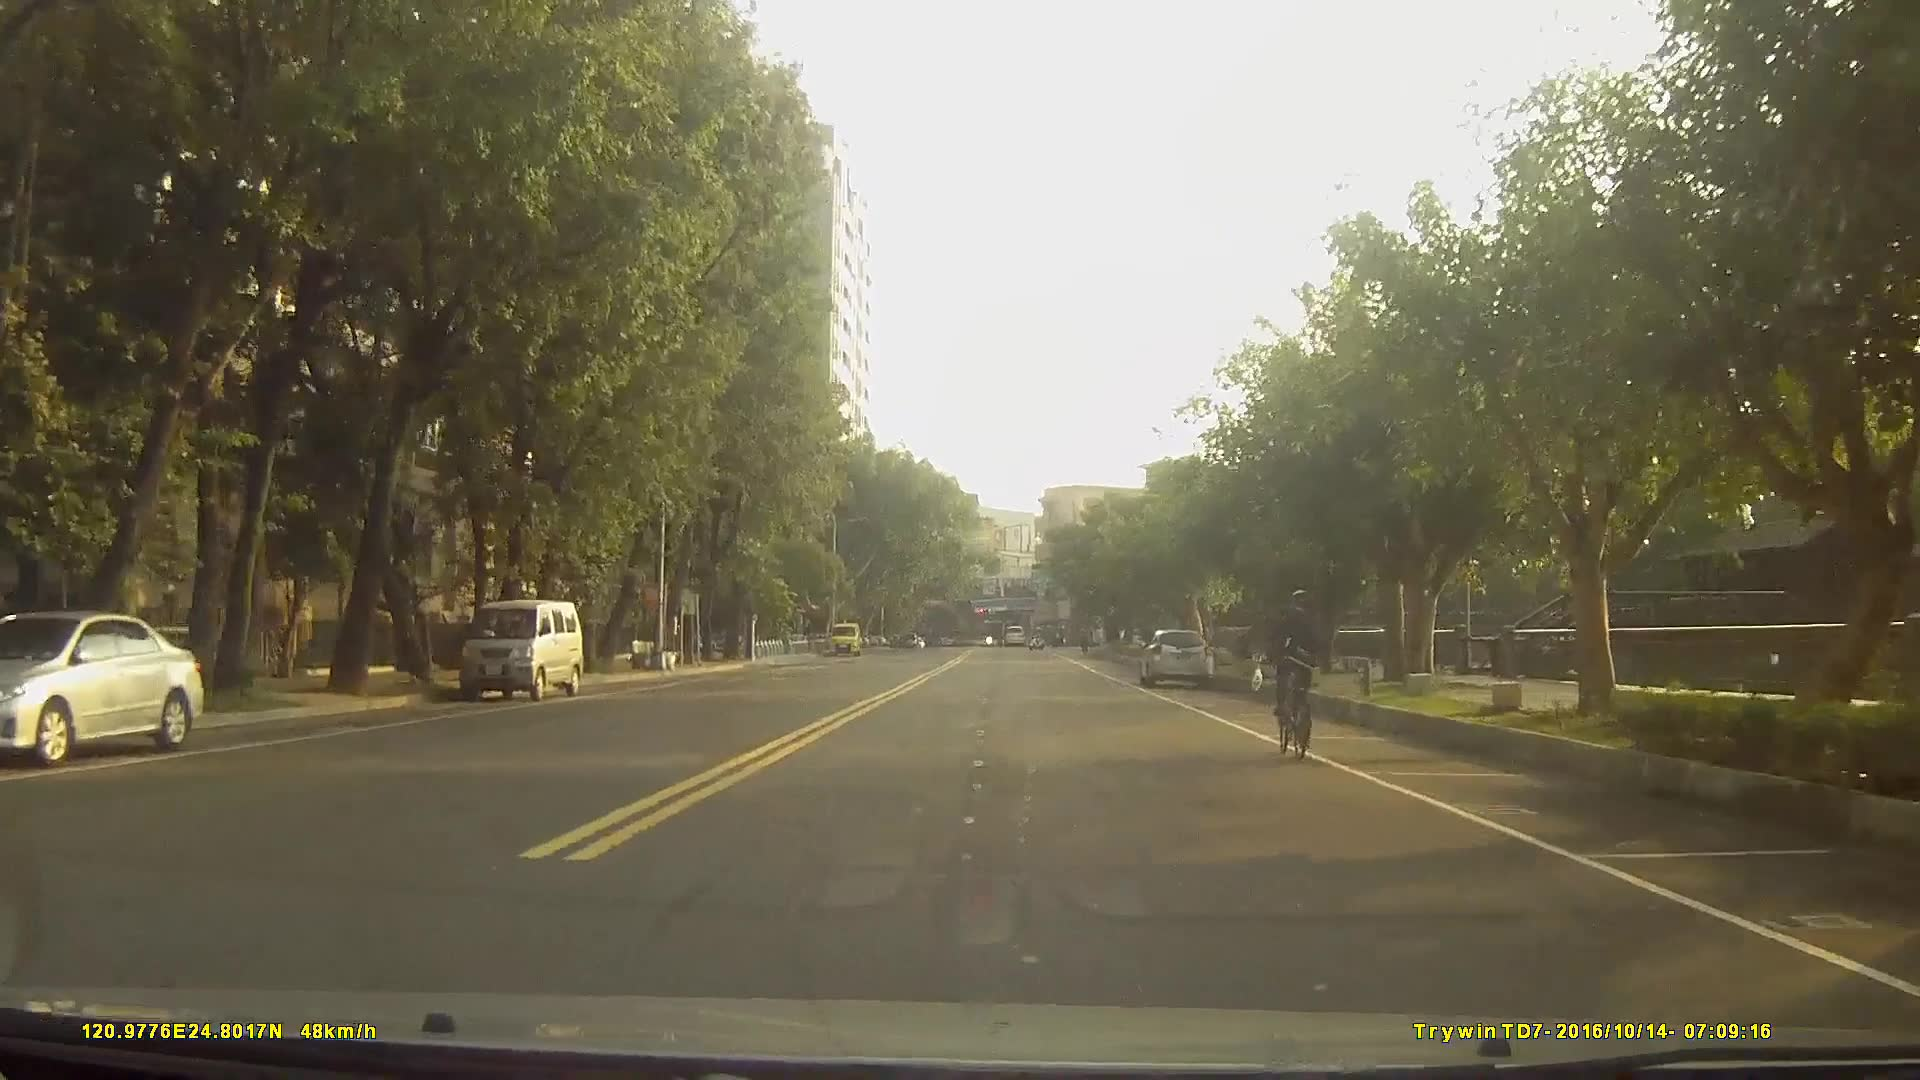rider: (1275, 589, 1322, 759)
vehicle: (0, 607, 201, 768), (458, 596, 585, 701), (1137, 626, 1215, 690), (1002, 621, 1026, 648)
